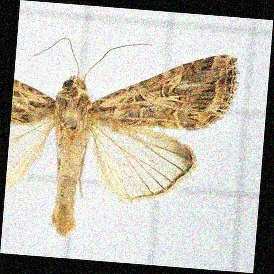Spodoptera litura: (10, 42, 234, 242)
